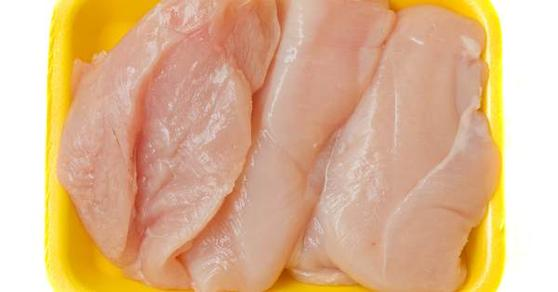chicken_fillet: (81, 2, 278, 284), (203, 1, 374, 287), (338, 9, 507, 292)
